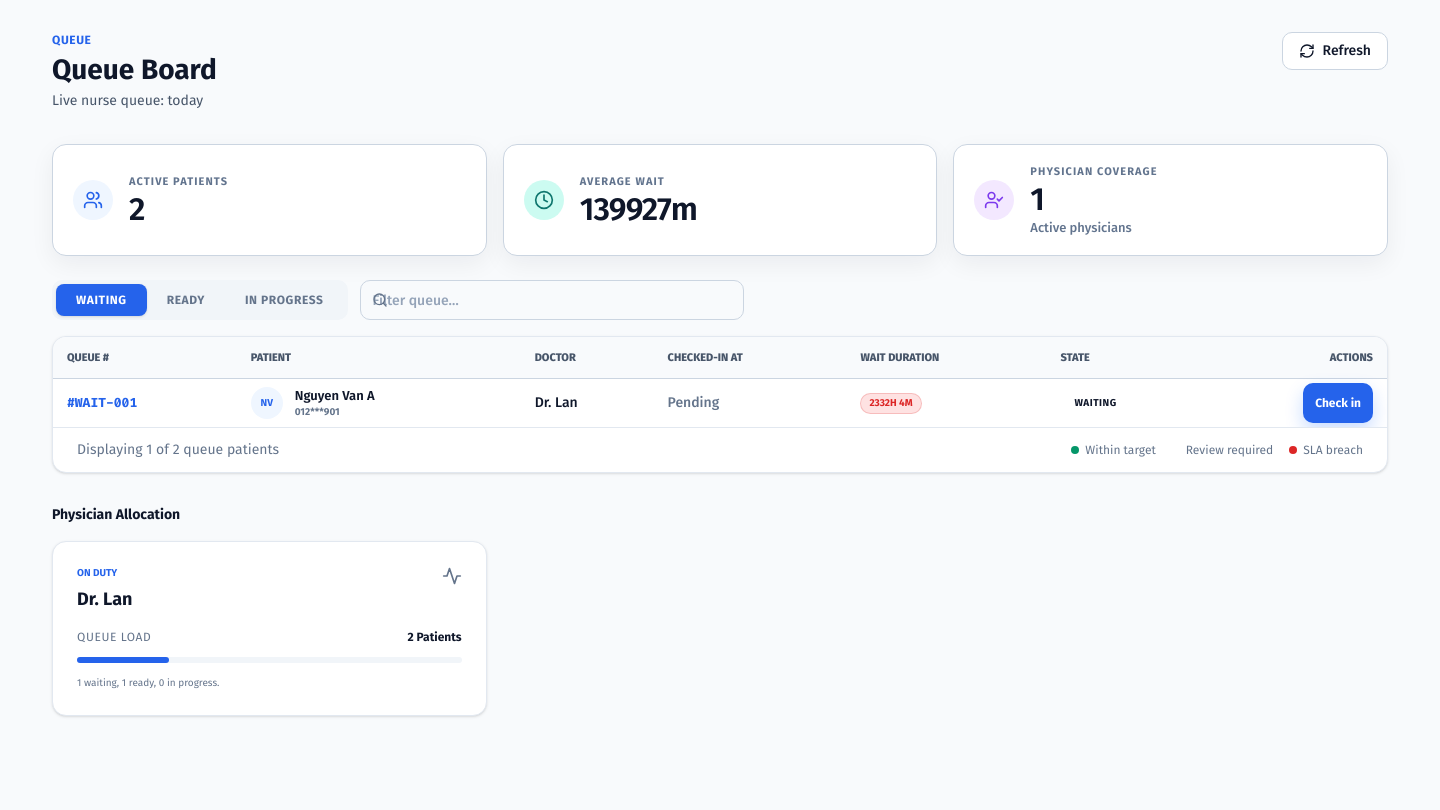
Test case: QueueBoardPage › shows row-level action errors without replacing the whole queue
Click the button "Ready" at (186, 300), box [147,284,225,316]
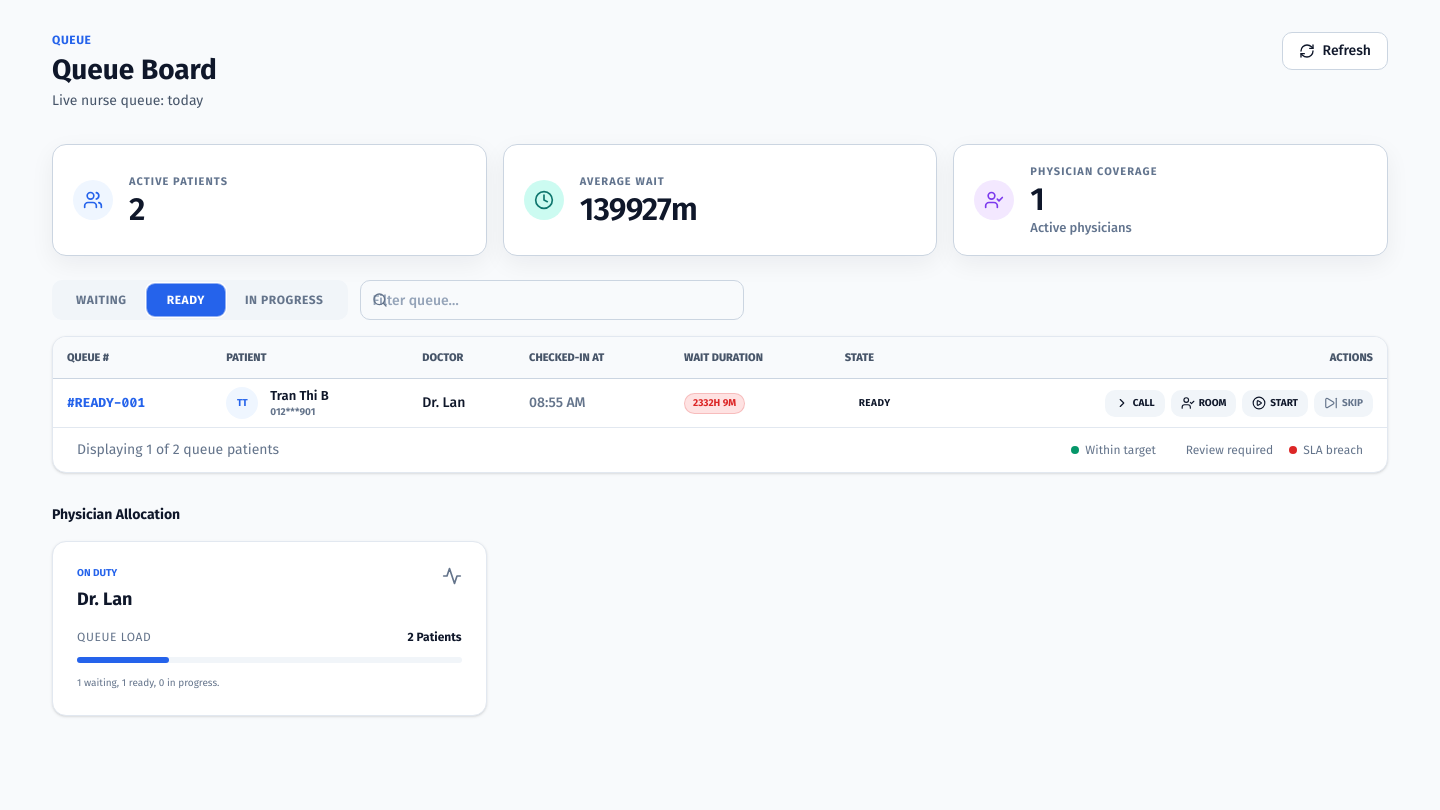
Expected: the text "Tran Thi B" is shown, [270,388,329,403]
Click the button with aria-label "call tran thi b" at (1135, 403), box [1105,390,1165,416]
(page scrolled)
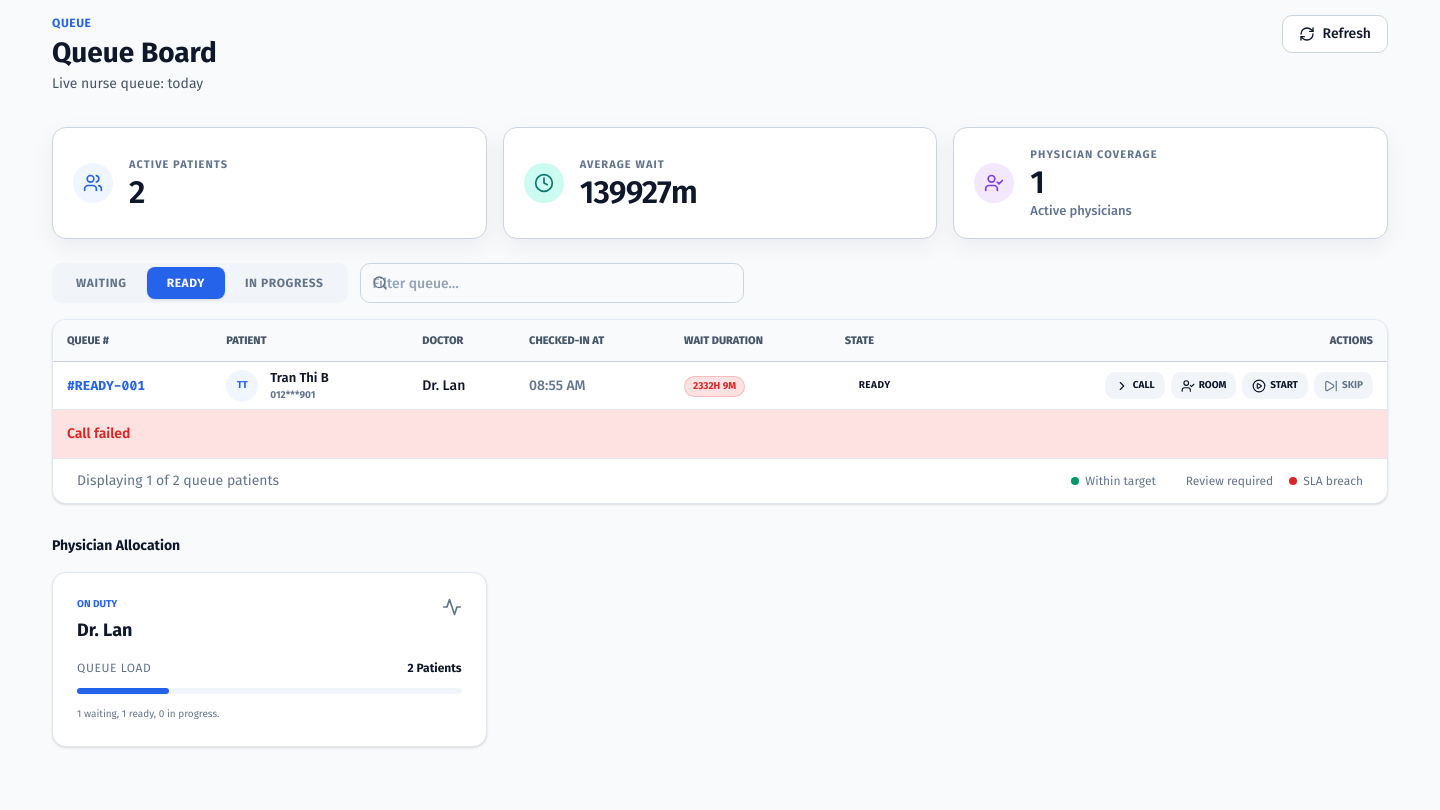
Expected: the message reads "Call failed", [67,425,130,442]
